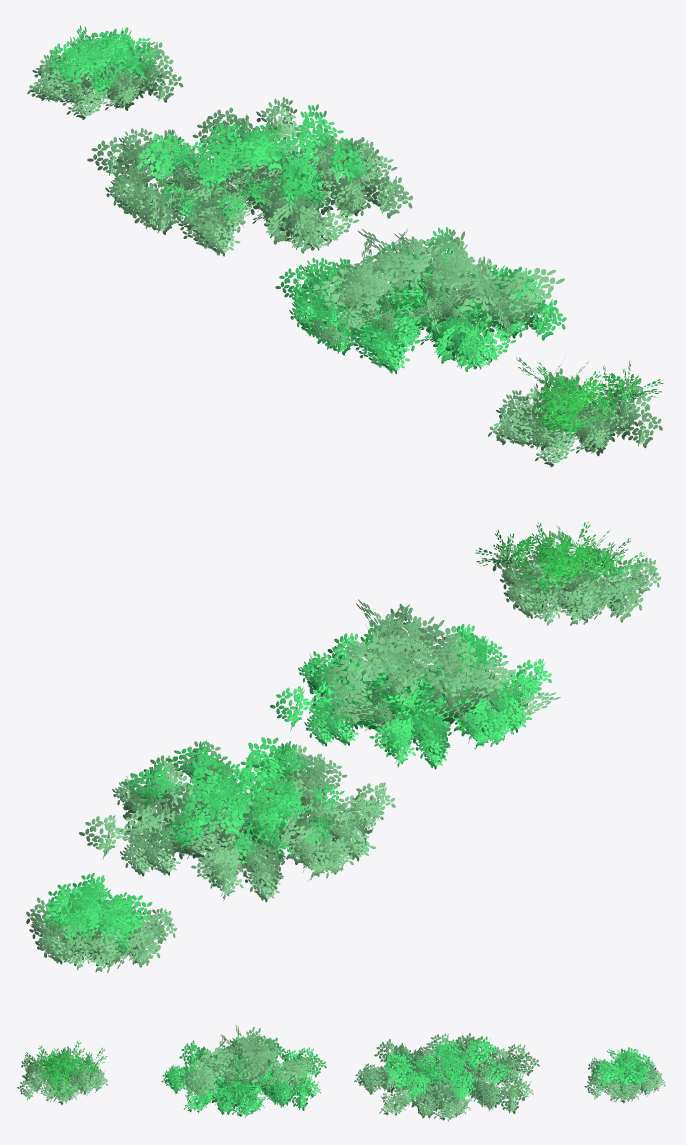
The model's file is Bush_HidingZone.fbx.
3 renders of one model, top to bottom at view 1: azimuth 30°, elevation 25°; view 2: azimuth 150°, elevation 25°; view 3: azimuth 270°, elevation 25°, orthographic. The views are drawn at different scales.
Parts seen in each view (by area): view 1: bush02_jabami_mesh, bush03_jabami_mesh, bush04_jabami_mesh, bush01_jabami_mesh; view 2: bush02_jabami_mesh, bush03_jabami_mesh, bush04_jabami_mesh, bush01_jabami_mesh; view 3: bush02_jabami_mesh, bush03_jabami_mesh, bush04_jabami_mesh, bush01_jabami_mesh.
Part boxes in pixels (x1,y1,x2,y2): bush02_jabami_mesh: (87, 97, 412, 256); bush03_jabami_mesh: (275, 227, 566, 374); bush04_jabami_mesh: (488, 357, 663, 467); bush01_jabami_mesh: (27, 25, 183, 119); bush02_jabami_mesh: (79, 737, 395, 902); bush03_jabami_mesh: (270, 599, 560, 769); bush04_jabami_mesh: (475, 522, 661, 625); bush01_jabami_mesh: (26, 873, 176, 972); bush02_jabami_mesh: (354, 1033, 539, 1121); bush03_jabami_mesh: (161, 1025, 326, 1117); bush04_jabami_mesh: (17, 1040, 107, 1105); bush01_jabami_mesh: (584, 1047, 665, 1103).
Size of the model in its own units: 617 by 227 by 2139.
